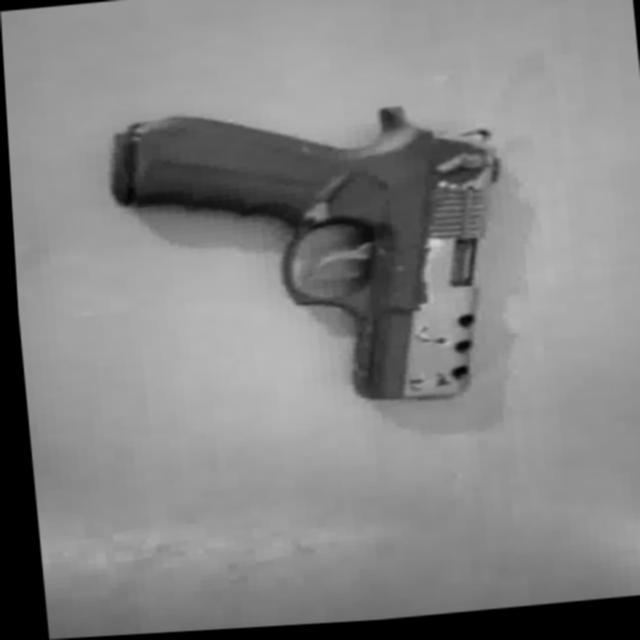weapon: (100, 90, 516, 430)
